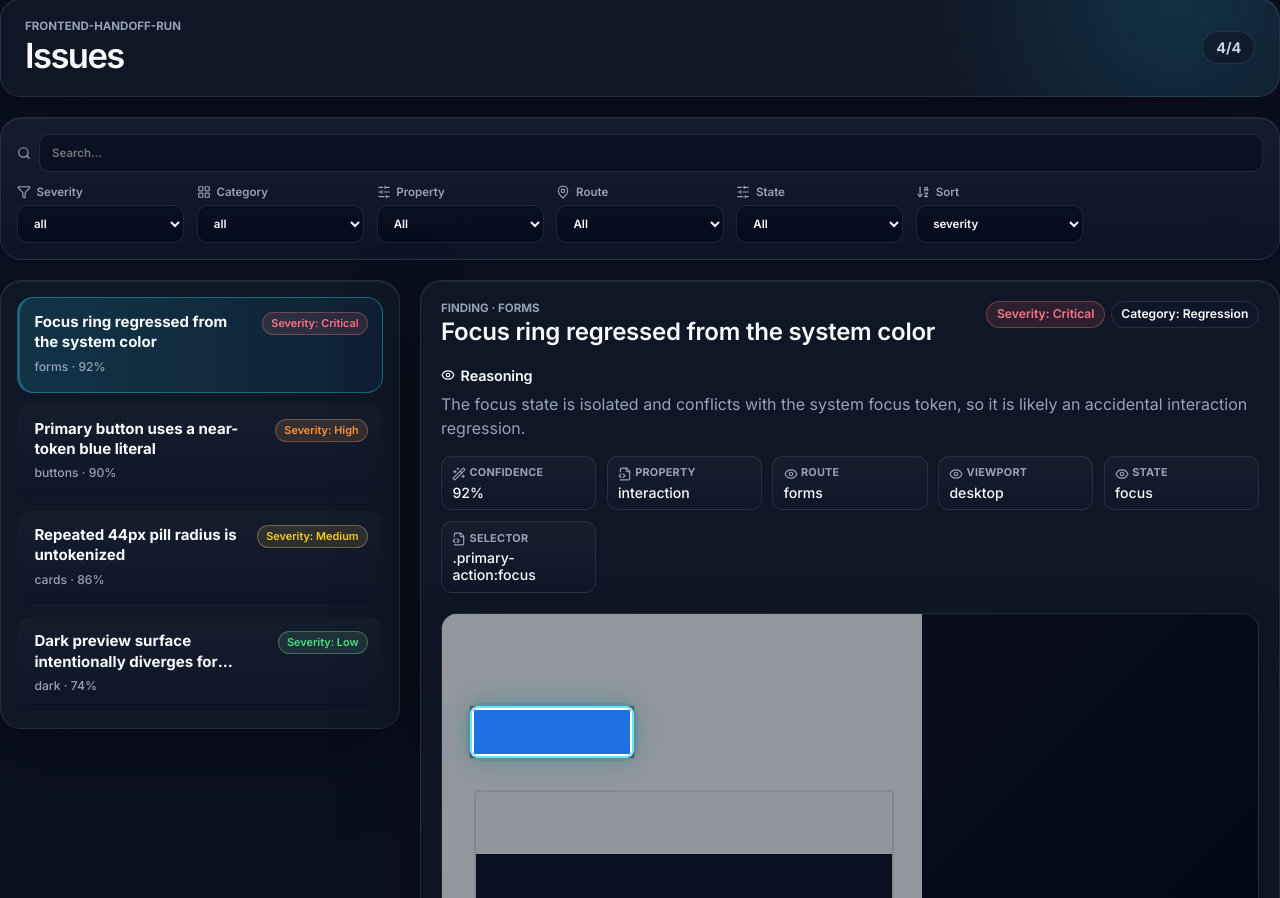
Test case: IssueWorkbench › selects issues and updates the detail panel
Click the button "Repeated 44px pill radius".
click(136, 534)  # box [17,510,383,606]
(page scrolled)
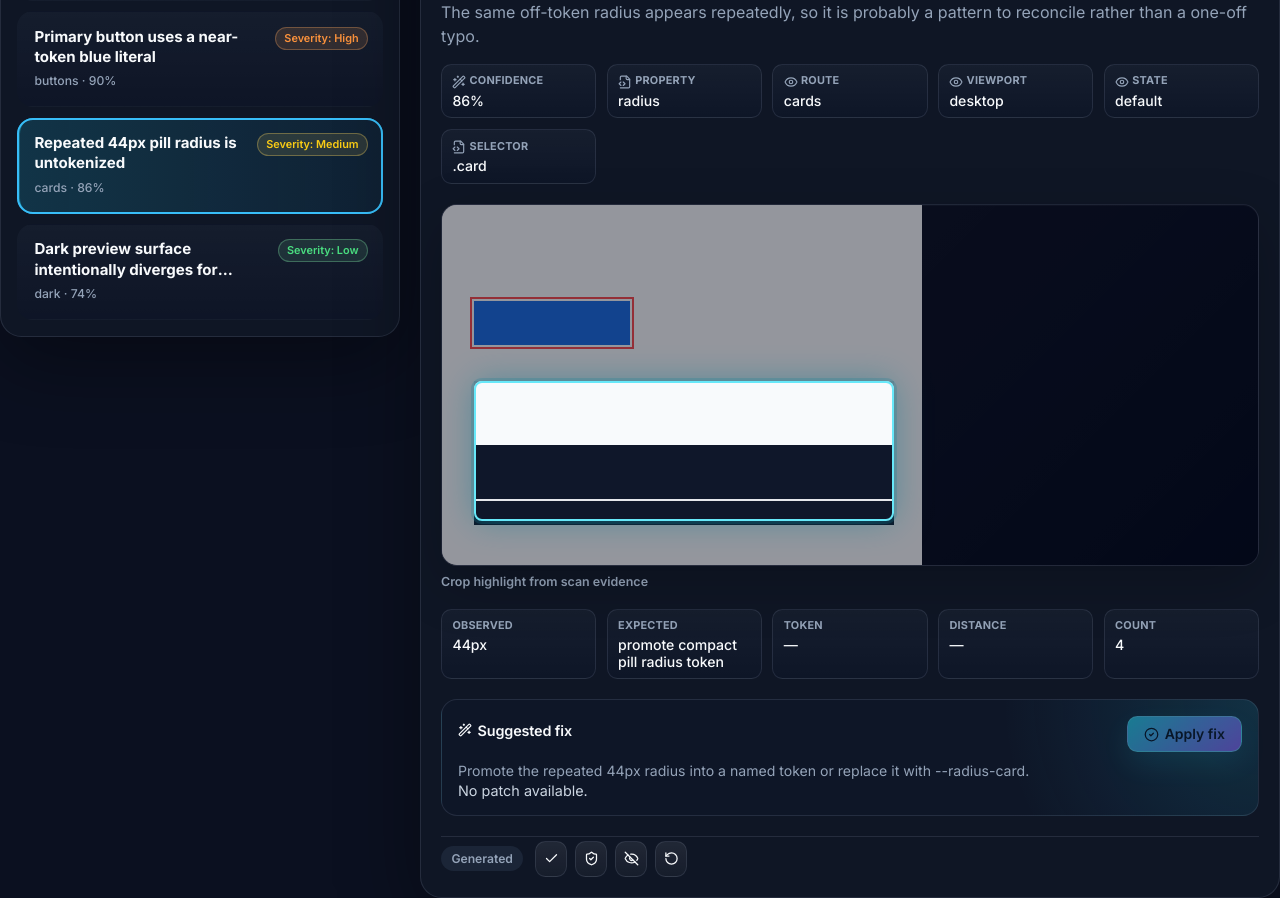
Expected: the text "Promote the repeated 44px radius" is shown, [458,762,1029,780]
